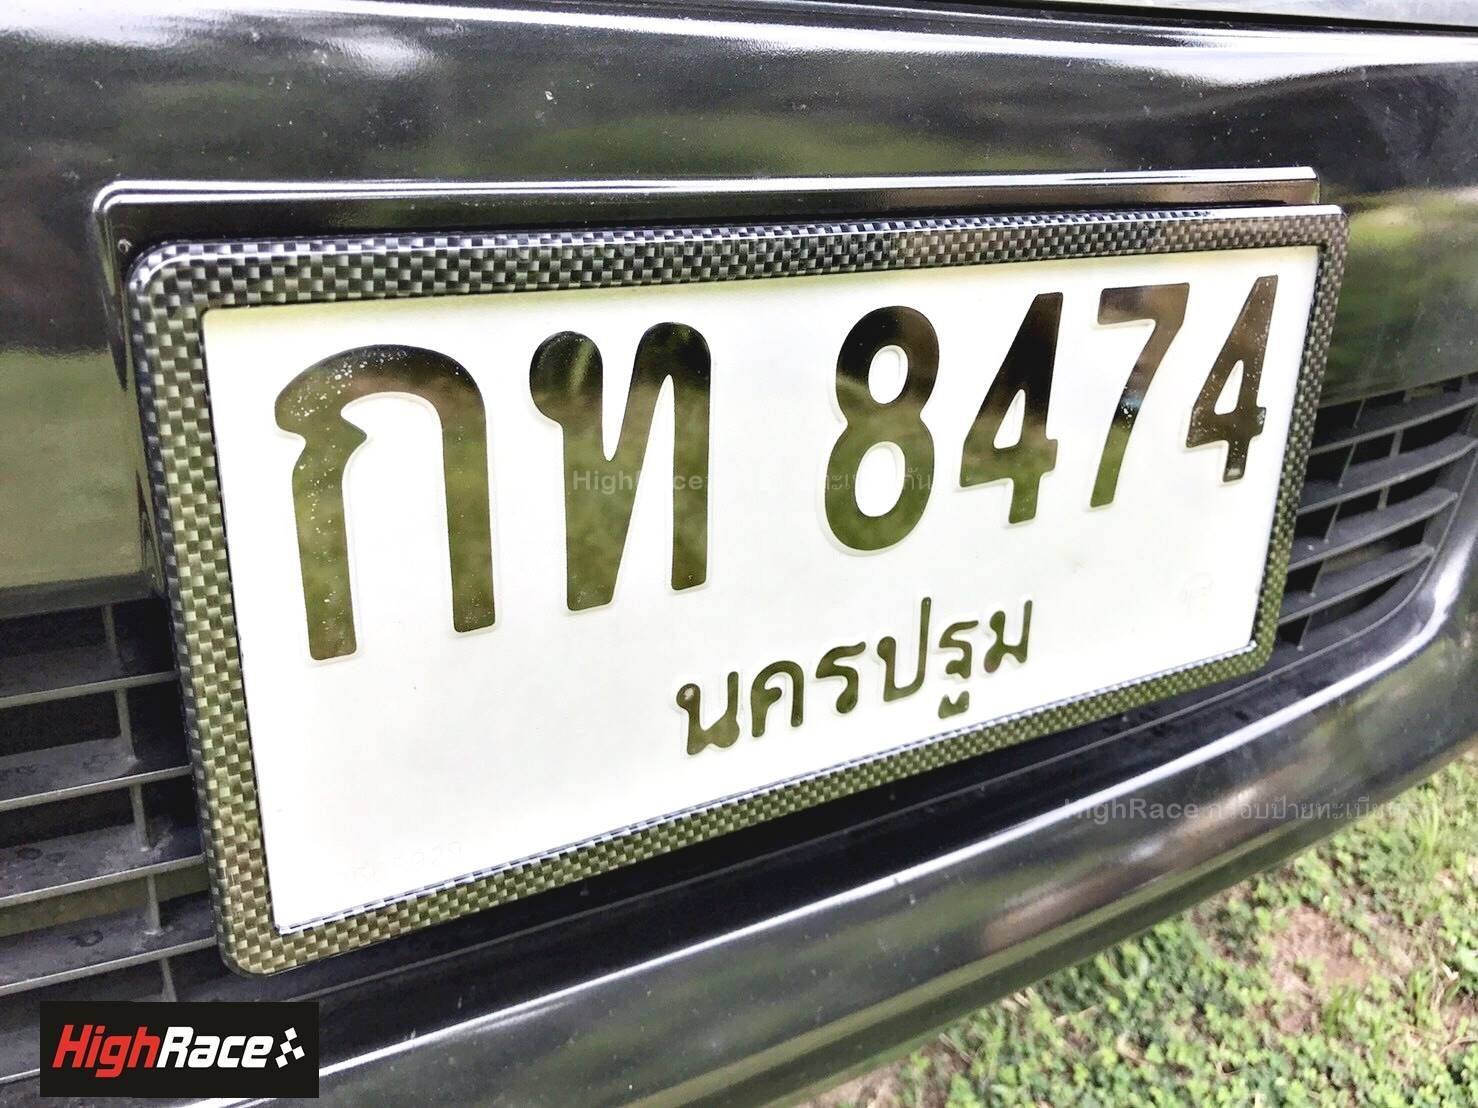Non-Bangkok: (639, 587, 1077, 770)
